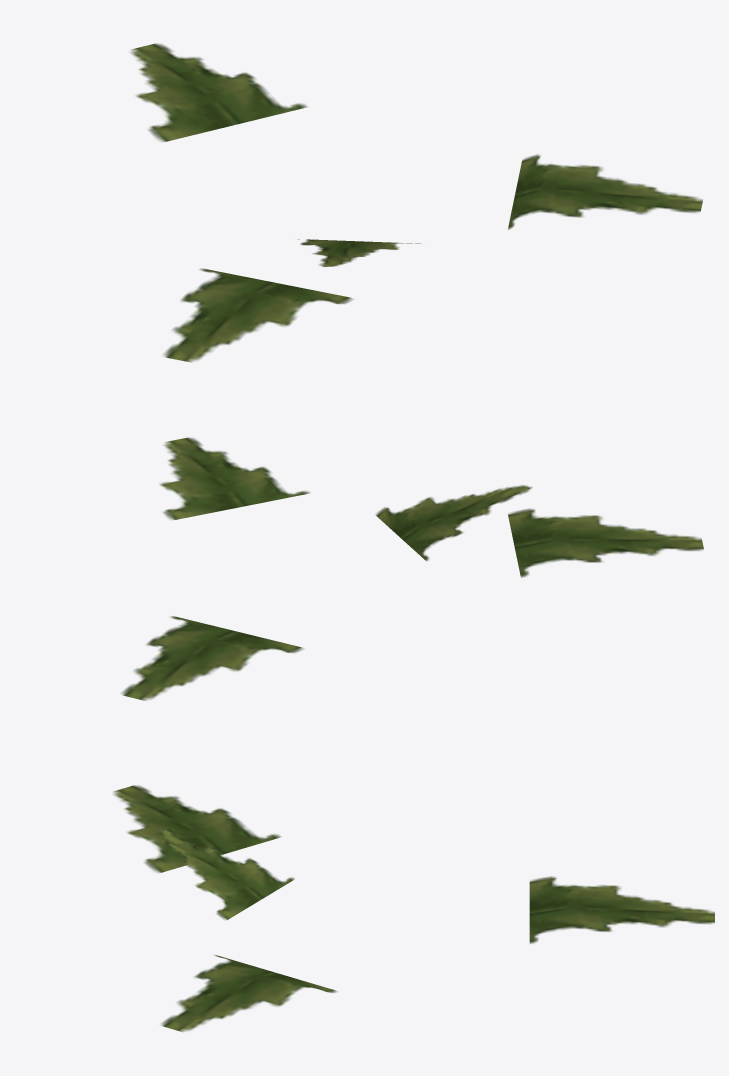
File: lp_bush_c_high.glb
3 renders of one model, top to bottom at view 1: azimuth 30°, elevation 25°; view 2: azimuth 150°, elevation 25°; view 3: azimuth 270°, elevation 25°, orthographic. The views are drawn at different scales.
Parts seen in each view (by area): view 1: lp_bush_c_high; view 2: lp_bush_c_high; view 3: lp_bush_c_high.
Boxes of the visible parts, <box> form: lp_bush_c_high: <box>130,43,702,362</box>; lp_bush_c_high: <box>121,437,703,700</box>; lp_bush_c_high: <box>113,785,714,1031</box>.
Bounding box in the file's own units: 0.7072 × 0.0381 × 0.6839.
Materials: 1 (1 with a texture image).
